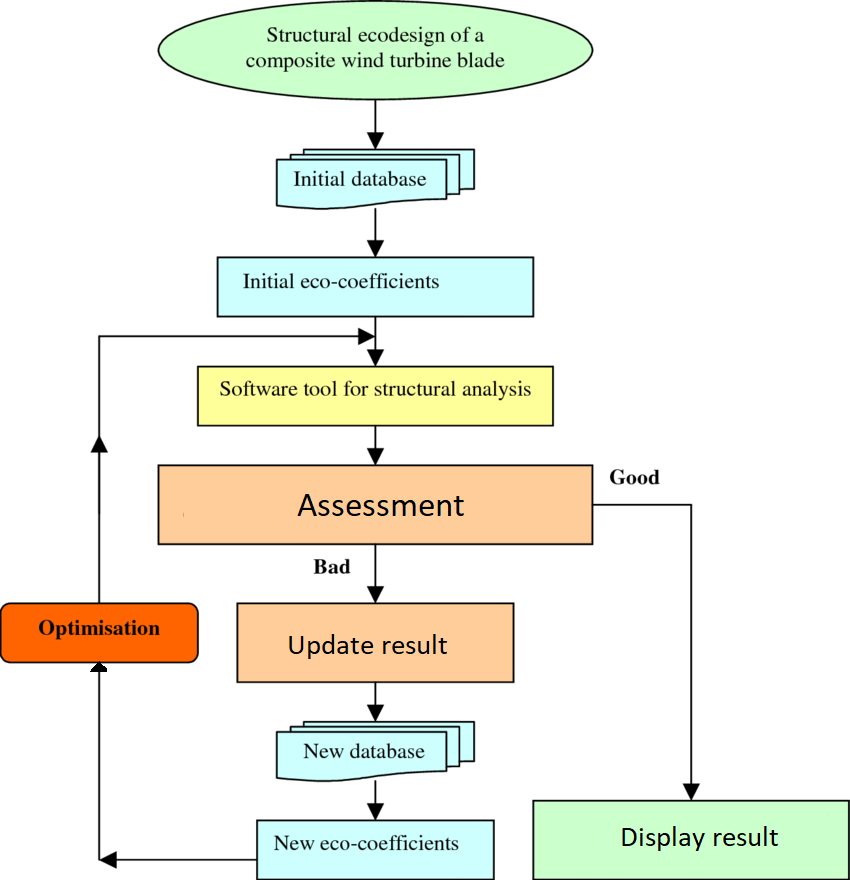arrow: (588, 499, 704, 803), (94, 325, 374, 431), (88, 659, 110, 861), (89, 431, 108, 607), (93, 850, 260, 869), (364, 537, 385, 603), (364, 205, 386, 259), (366, 97, 386, 153), (366, 314, 386, 369), (364, 777, 388, 822), (366, 679, 388, 723), (364, 421, 385, 463)
process: (150, 459, 598, 551), (528, 797, 850, 878), (234, 599, 518, 687), (192, 363, 557, 429), (212, 251, 538, 321), (252, 814, 499, 880), (1, 598, 205, 669), (269, 717, 478, 785), (272, 145, 481, 211)
terminator: (154, 2, 600, 106)
text: (241, 22, 506, 71), (217, 374, 533, 403), (292, 490, 468, 521), (285, 630, 449, 661), (270, 831, 462, 857), (617, 823, 782, 853), (240, 269, 441, 291), (290, 167, 429, 189), (36, 618, 161, 642), (302, 739, 424, 761), (606, 465, 670, 489), (310, 554, 352, 577)
